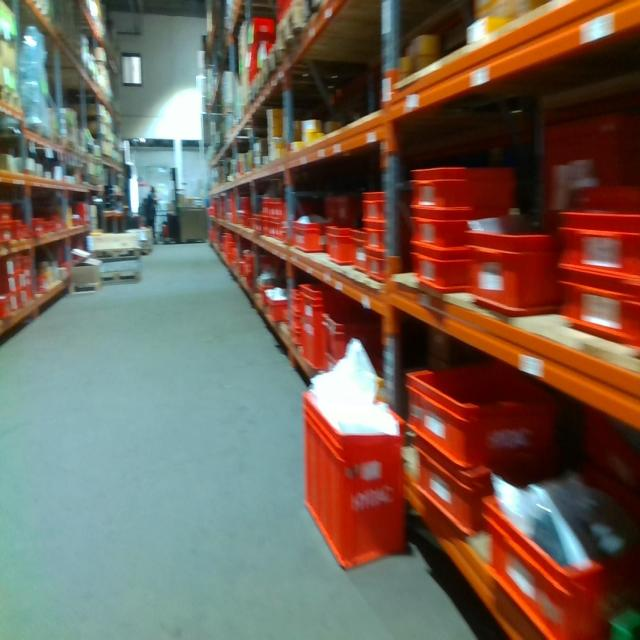pallet: (277, 3, 310, 59), (259, 46, 281, 100), (98, 265, 142, 292), (91, 247, 141, 265), (303, 4, 332, 30)
pallet_truck: (161, 165, 183, 242), (124, 167, 145, 229)
small_load_carrier: (476, 470, 638, 634), (299, 376, 409, 571), (404, 355, 559, 466), (535, 100, 632, 235), (466, 218, 573, 323), (557, 263, 637, 356), (415, 444, 486, 541), (557, 208, 638, 288), (323, 305, 400, 387), (404, 155, 512, 212), (299, 277, 345, 378), (410, 216, 508, 251), (409, 251, 476, 299), (358, 189, 399, 229), (291, 215, 324, 258), (362, 224, 400, 256), (350, 222, 372, 277), (324, 224, 354, 263), (323, 186, 358, 219), (362, 253, 392, 291), (266, 290, 291, 327), (243, 13, 276, 39), (20, 254, 35, 304), (2, 251, 22, 282), (289, 279, 305, 310), (32, 214, 46, 242), (4, 195, 16, 226), (287, 308, 305, 328), (11, 216, 23, 246), (273, 198, 288, 221), (4, 273, 22, 292), (287, 328, 304, 346), (75, 215, 92, 232), (278, 224, 294, 242), (1, 296, 12, 320), (2, 220, 12, 243), (275, 219, 286, 237), (13, 292, 21, 316), (75, 201, 88, 215), (261, 196, 270, 215), (263, 216, 268, 239), (254, 220, 261, 234)
